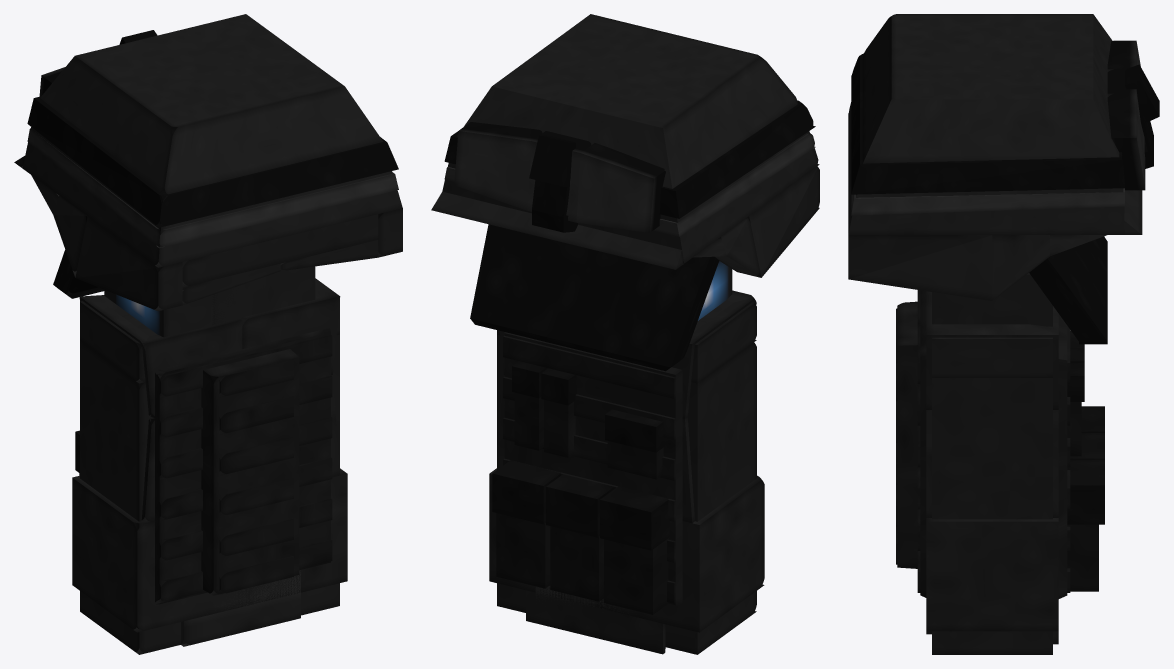
The model's file is marineblack.obj.
The picture shows the model from 3 angles, left to right: view 1: azimuth 30°, elevation 25°; view 2: azimuth 150°, elevation 25°; view 3: azimuth 270°, elevation 25°; orthographic projection.
Visible parts, largest first — view 1: headModel1, bodyModel0, bodyModel31, bodyModel38, headModel15, bodyModel16, headModel0, headModel11, headModel4, headModel8, bodyModel2, rightArmModel0 (+22 smaller); view 2: headModel1, headModel12, bodyModel38, bodyModel0, bodyModel4, headModel17, headModel16, headModel0, headModel15, headModel14, bodyModel11, bodyModel14 (+27 smaller); view 3: headModel1, bodyModel38, bodyModel0, headModel15, headModel0, headModel7, bodyModel31, headModel12, bodyModel40, headModel11, leftArmModel0, bodyModel3 (+16 smaller).
Boxes of the visible parts, x1,y1,x2,y2 form: headModel1: (40, 14, 383, 194); bodyModel0: (72, 468, 347, 632); bodyModel31: (201, 349, 299, 595); bodyModel38: (80, 334, 339, 654); headModel15: (27, 96, 398, 227); bodyModel16: (136, 328, 330, 604); headModel0: (22, 127, 402, 267); headModel11: (27, 128, 398, 248); headModel4: (75, 216, 182, 311); headModel8: (182, 214, 378, 287); bodyModel2: (79, 295, 242, 418); rightArmModel0: (104, 276, 266, 344); headModel1: (457, 14, 797, 188); headModel12: (470, 224, 719, 367); bodyModel38: (497, 334, 756, 654); bodyModel0: (489, 468, 764, 632); bodyModel4: (504, 332, 682, 605); headModel17: (576, 143, 665, 232); headModel16: (454, 122, 542, 210); headModel0: (442, 131, 819, 263); headModel15: (444, 100, 815, 218); headModel14: (431, 191, 683, 269); bodyModel11: (526, 590, 665, 654); bodyModel14: (604, 538, 668, 614); headModel1: (862, 14, 1119, 163); bodyModel38: (932, 378, 1052, 654); bodyModel0: (926, 518, 1058, 631); headModel15: (851, 53, 1124, 194); headModel0: (848, 102, 1124, 234); headModel7: (848, 235, 992, 300); bodyModel31: (897, 301, 919, 568); headModel12: (1029, 236, 1107, 341); bodyModel40: (932, 326, 1052, 377); headModel11: (851, 188, 1124, 215); leftArmModel0: (932, 273, 1052, 326); bodyModel3: (926, 291, 1058, 409).
Size of the model in its own units: 11 by 21.2 by 10.8.
